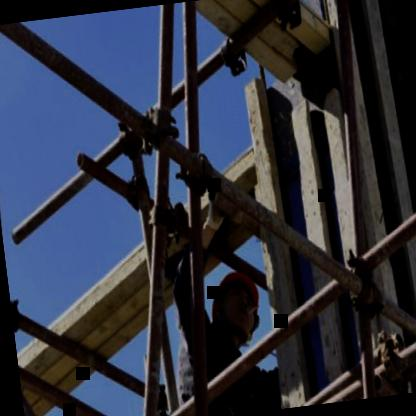helmet: (195, 252, 271, 346)
